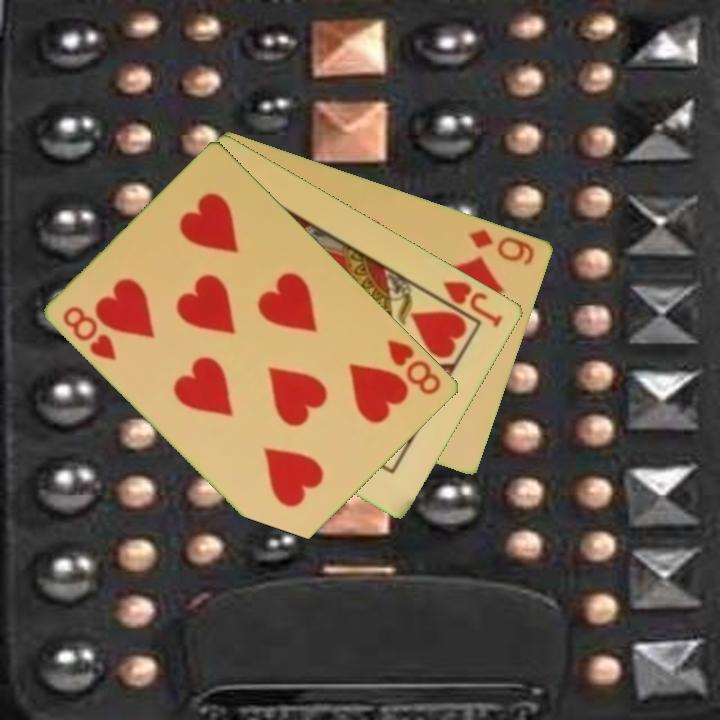6d: (465, 225, 538, 268)
8h: (384, 336, 445, 398), (60, 303, 120, 364)
Jh: (427, 277, 506, 331)
